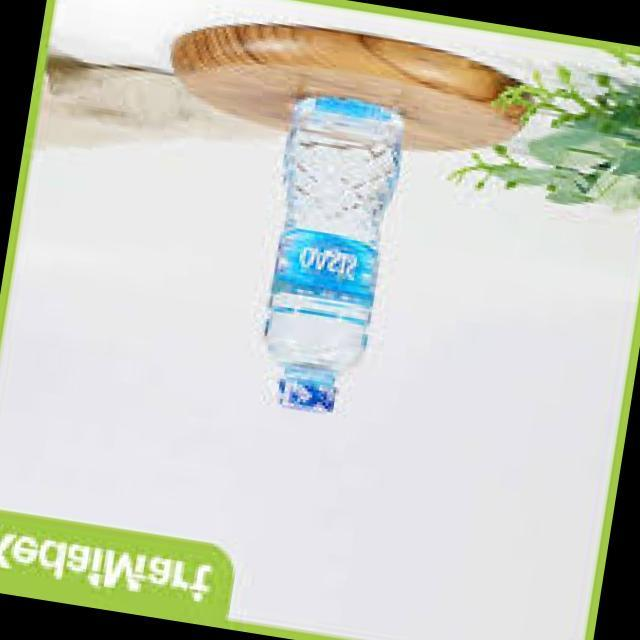good: (245, 78, 433, 438)
